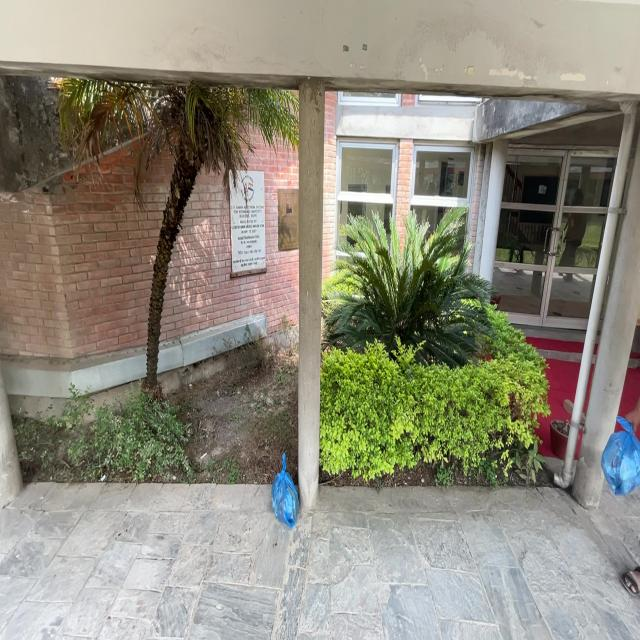carryload: (594, 394, 640, 514)
garbage: (266, 455, 316, 540)
